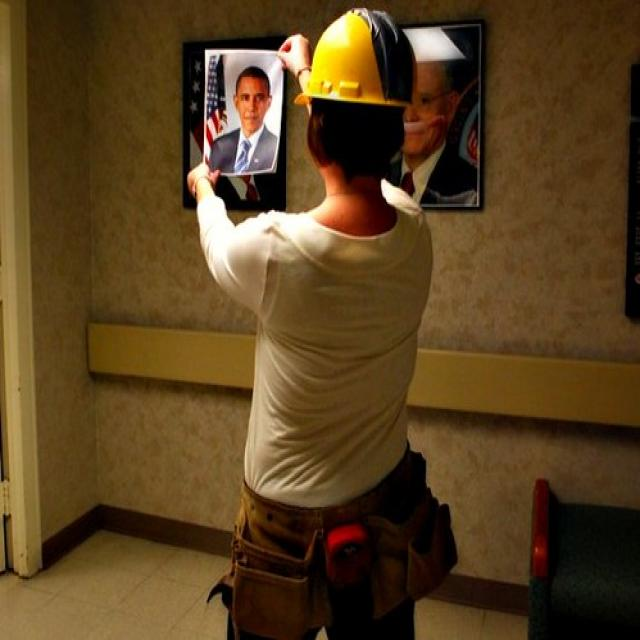Safety-Helmet: (298, 3, 405, 111)
